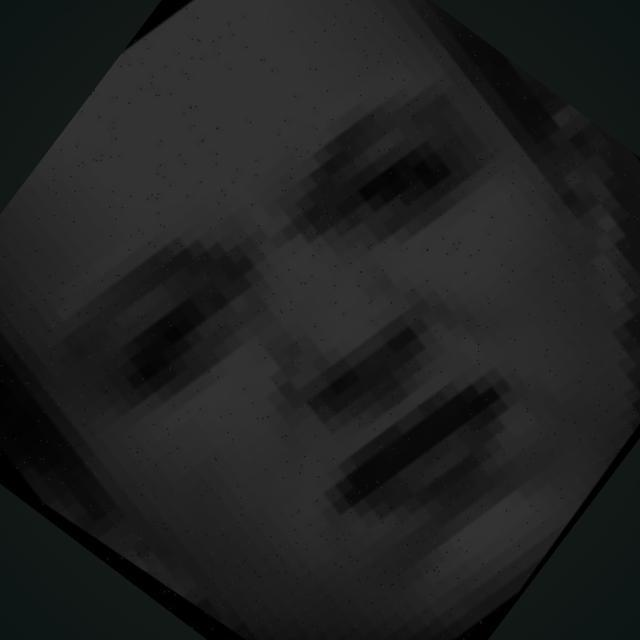Disgust: (36, 85, 637, 573)
